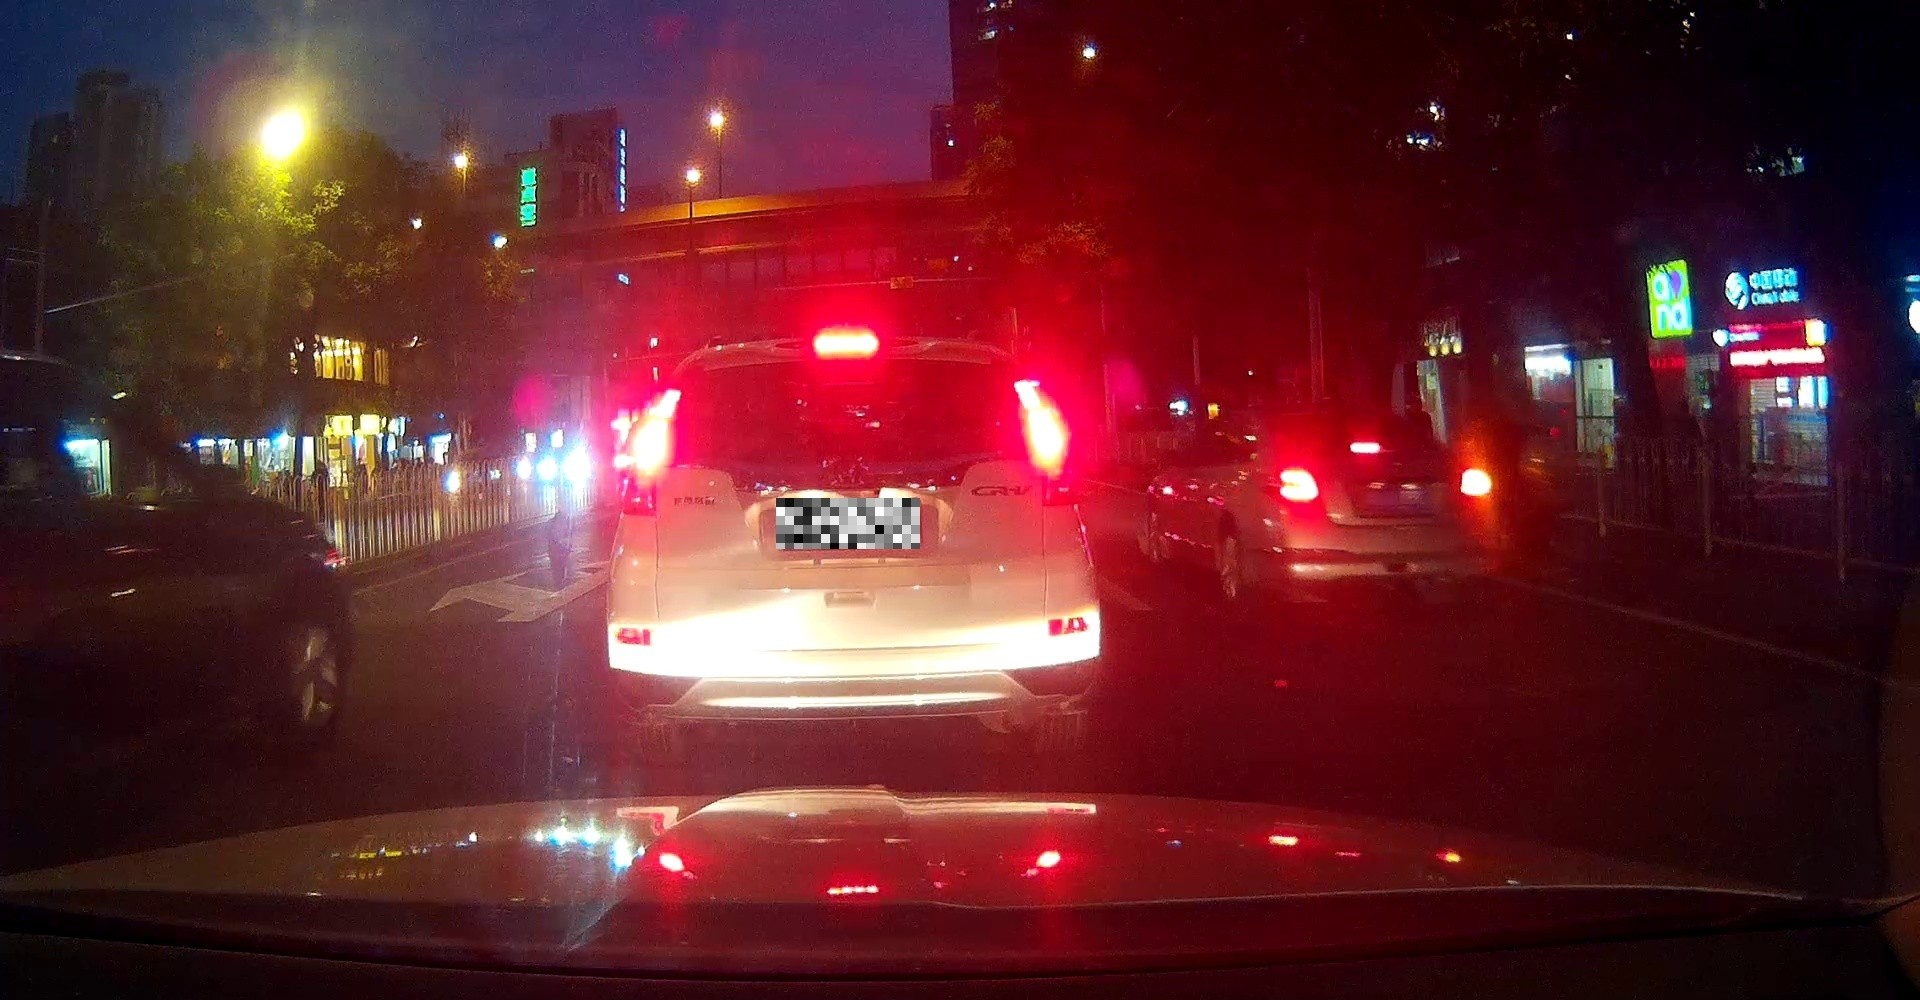L_light: (616, 390, 681, 515), (1277, 468, 1321, 503)
R_light: (1013, 378, 1078, 506), (1457, 464, 1495, 497)
T_light: (814, 334, 879, 357), (1349, 440, 1383, 454)
night-brake: (603, 324, 1102, 759), (1270, 412, 1505, 605)
plate_1: (776, 497, 919, 549)
